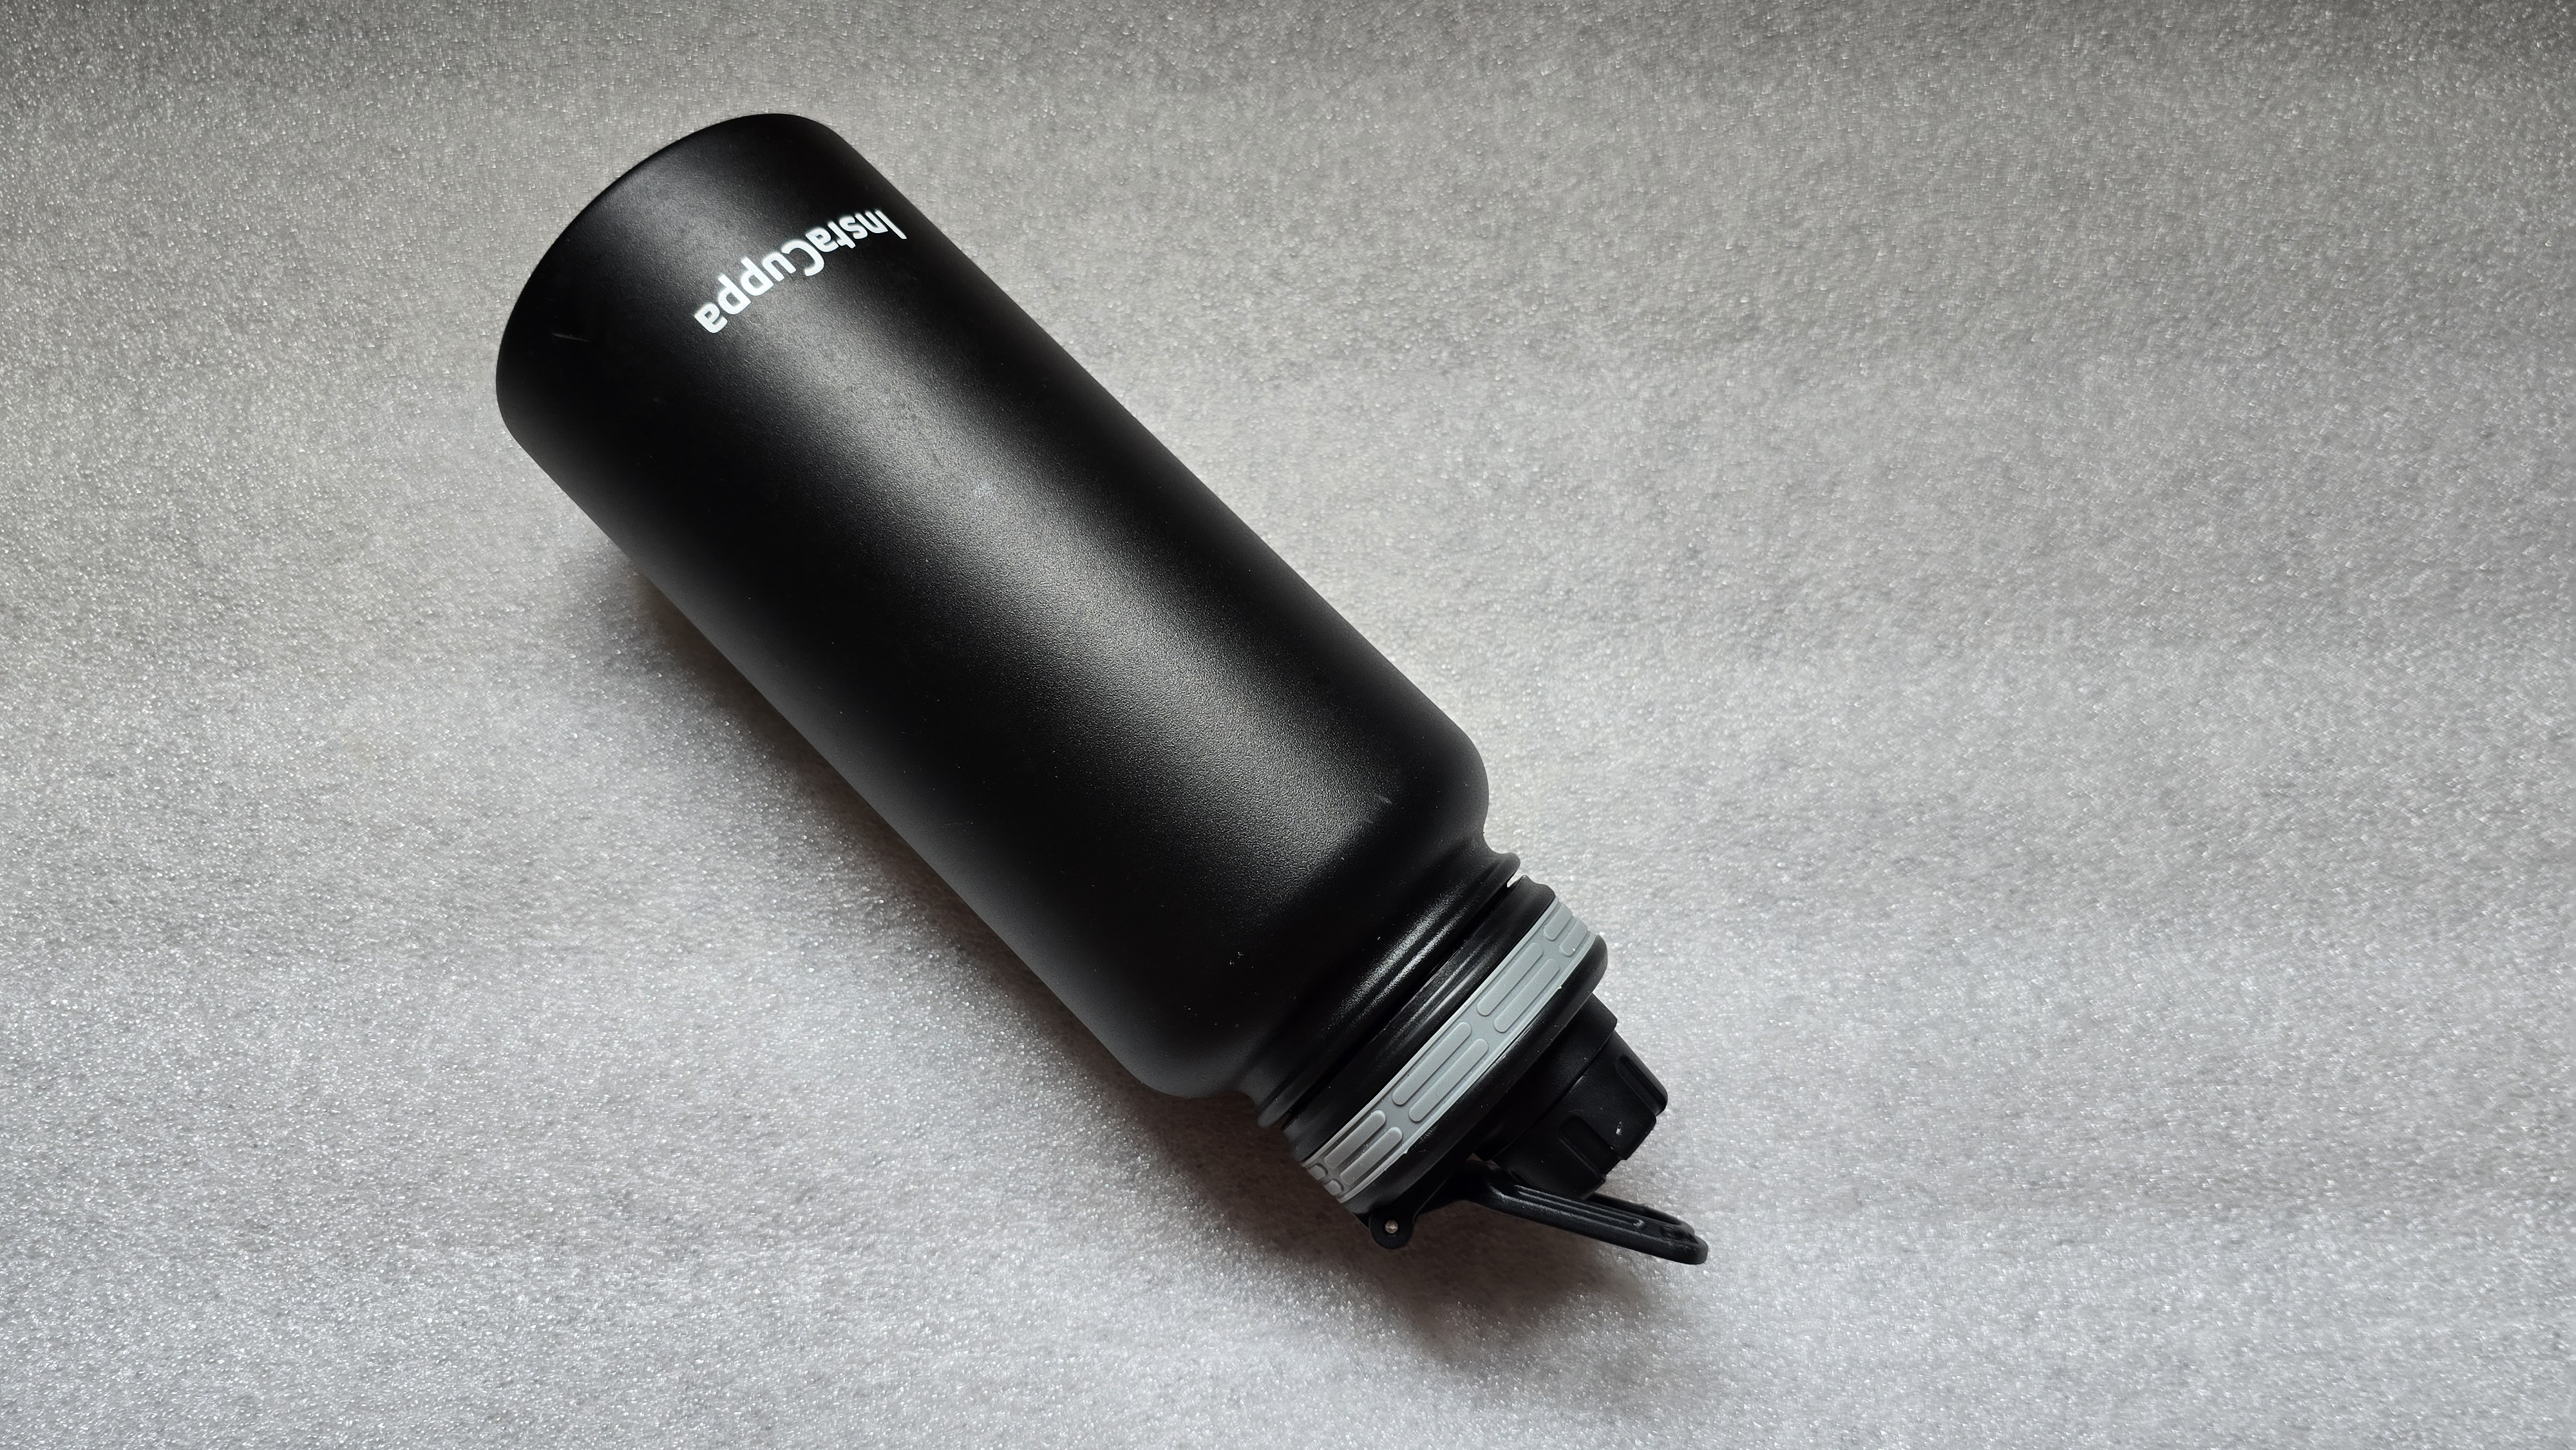bottle: (471, 99, 1902, 1284)
